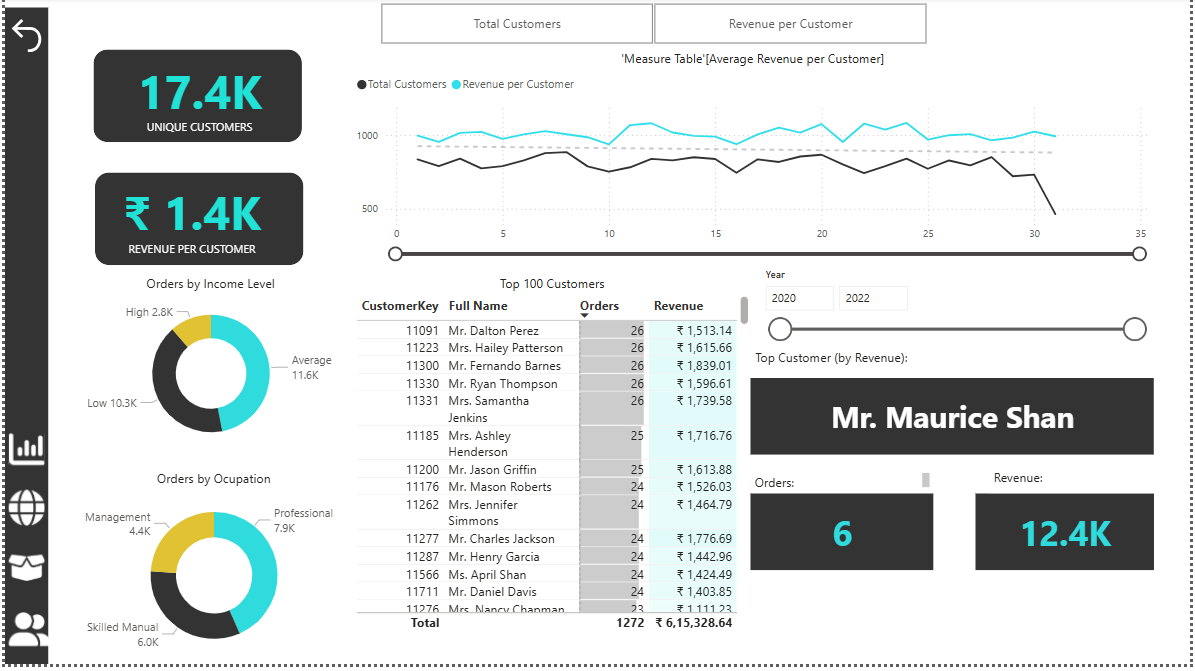

The dashboard page shown, as its layout file describes it:
{"tool":"powerbi","page":{"name":"Customer Details","canvas":[1280,720],"ordinal":3},"visuals":[{"type":"actionButton","box":[0,464.7,58.3,47],"z":0,"group":"g1"},{"type":"shape","box":[0,11,46.7,709],"z":0},{"type":"actionButton","box":[0,528.4,58.3,47],"z":1000,"group":"g1"},{"type":"shape","box":[97.8,188.9,225,100],"z":1000},{"type":"shape","box":[95.6,56.7,225,100],"z":2000},{"type":"actionButton","box":[0,592.1,58.3,47],"z":2000,"group":"g1"},{"type":"card","fields":{"Values":["Measure Table.Total Customers"]},"box":[38.3,15,341.7,185],"z":3000},{"type":"actionButton","box":[0,655.8,58.3,53.4],"z":3000,"group":"g1"},{"type":"card","fields":{"Values":["Measure Table.Average Revenue per Customer"]},"box":[31.1,145.6,341.7,185],"z":4000},{"type":"lineChart","fields":{"Y":["Measure Table.Total Customers","Measure Table.Average Revenue per Customer"],"Category":["Calendar Lookup.Date.Variation.Date Hierarchy.Year","Calendar Lookup.Date.Variation.Date Hierarchy.Quarter","Calendar Lookup.Date.Variation.Date Hierarchy.Month","Calendar Lookup.Date.Variation.Date Hierarchy.Day"]},"box":[374,56.7,866.3,231.5],"z":5000},{"type":"donutChart","title":"Orders by Income Level","fields":{"Category":["Customer Lookup.Income Level"],"Y":["Measure Table.Total Orders"]},"box":[71.7,300,301.7,195],"z":6000},{"type":"donutChart","title":"Orders by Ocupation","fields":{"Y":["Measure Table.Total Orders"],"Category":["Customer Lookup.Occupation"]},"box":[71.7,510,308.3,210],"z":7000},{"type":"tableEx","title":"Top 100 Customers","fields":{"Values":["Customer Lookup.CustomerKey","Customer Lookup.Full Name","Measure Table.Total Orders","Measure Table.Total Revenue"]},"box":[373.3,300,433.3,388.3],"z":8000},{"type":"card","fields":{"Values":["Measure Table.Full Name (Customer Detail)"]},"box":[804.8,411.3,435.6,82.6],"z":9000},{"type":"card","fields":{"Values":["Measure Table.Total Orders (Customer Detail)"]},"box":[804.8,536,197.5,82.6],"z":10000},{"type":"card","fields":{"Values":["Measure Table.Total Revenue (Customer Detail)"]},"box":[1047.6,536,192.7,82.6],"z":11000},{"type":"textbox","box":[805,374.1,198.3,36.7],"z":12000},{"type":"textbox","box":[805,509.1,198.3,26.7],"z":13000},{"type":"textbox","box":[1061.6,504.1,216.7,31.7],"z":14000},{"type":"slicer","fields":{"Values":["Calendar Lookup.Year"]},"box":[808,288.2,432.3,85.8],"z":15000},{"type":"actionButton","box":[0,14.6,47,53.4],"z":16000},{"type":"group","id":"g1","title":"Navigation buttons","box":[0,464.7,58.3,244.5],"z":17000},{"type":"slicer","fields":{"Values":["Customer Metric .Customer Metric "]},"box":[380.5,0,638,56.7],"z":18000}]}

Visuals, with their boxes on the page's 1280x720 design canvas (x1, y1, x2, y2). These are canvas units, not pixel positions in the 1195x671 screenshot, which may show the page scaled, cropped or inside an application window:
actionButton: box(0, 465, 58, 512)
shape: box(0, 11, 47, 720)
actionButton: box(0, 528, 58, 575)
shape: box(98, 189, 323, 289)
shape: box(96, 57, 321, 157)
actionButton: box(0, 592, 58, 639)
card - Measure Table.Total Customers: box(38, 15, 380, 200)
actionButton: box(0, 656, 58, 709)
card - Measure Table.Average Revenue per Customer: box(31, 146, 373, 331)
lineChart - Measure Table.Total Customers x Measure Table.Average Revenue per Customer: box(374, 57, 1240, 288)
"Orders by Income Level" donutChart: box(72, 300, 373, 495)
"Orders by Ocupation" donutChart: box(72, 510, 380, 720)
"Top 100 Customers" tableEx: box(373, 300, 807, 688)
card - Measure Table.Full Name (Customer Detail): box(805, 411, 1240, 494)
card - Measure Table.Total Orders (Customer Detail): box(805, 536, 1002, 619)
card - Measure Table.Total Revenue (Customer Detail): box(1048, 536, 1240, 619)
textbox: box(805, 374, 1003, 411)
textbox: box(805, 509, 1003, 536)
textbox: box(1062, 504, 1278, 536)
slicer - Calendar Lookup.Year: box(808, 288, 1240, 374)
actionButton: box(0, 15, 47, 68)
"Navigation buttons" group: box(0, 465, 58, 709)
slicer - Customer Metric .Customer Metric : box(380, 0, 1018, 57)
